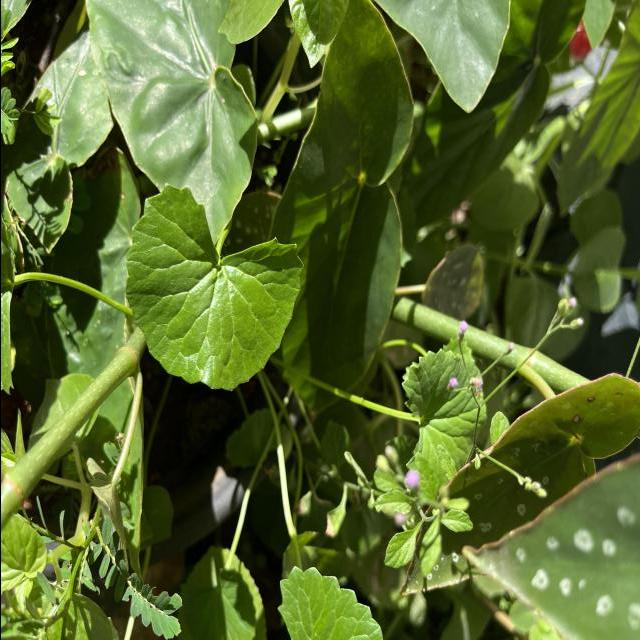Centella asiatica: (121, 180, 307, 397)
